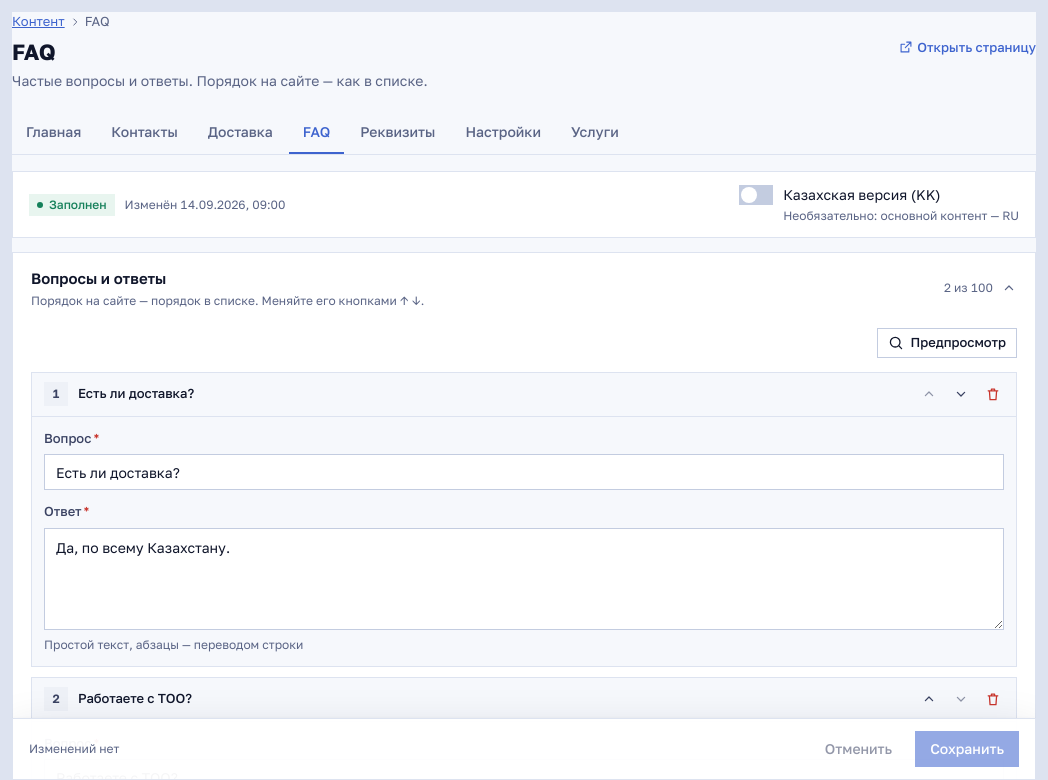
it: несохранённые изменения › закрытие вкладки при изменениях предупреждает, после сохранения — нет
The width and height of the screenshot is (1048, 780).
Expected: the button "Сохранить" is shown, [915,731,1019,767]
Type "!" into the field labelled "Вопрос*" at (524, 472), box [44,454,1004,490]
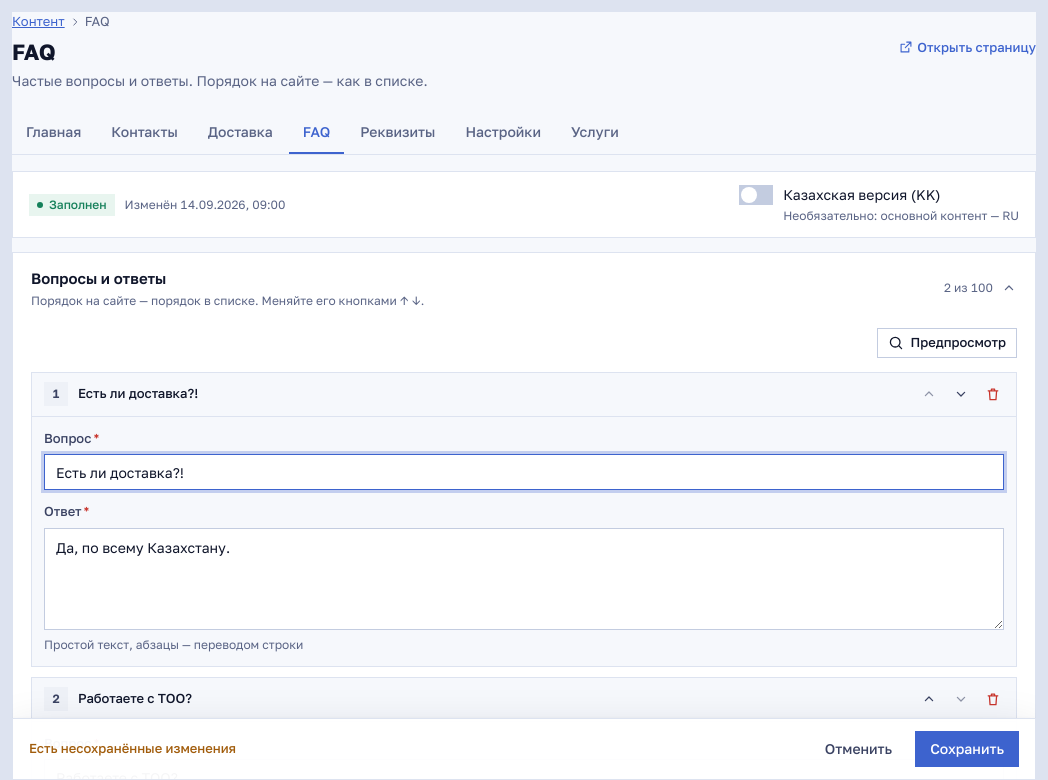
Click the button "Сохранить" at (967, 749), box [915,731,1019,767]
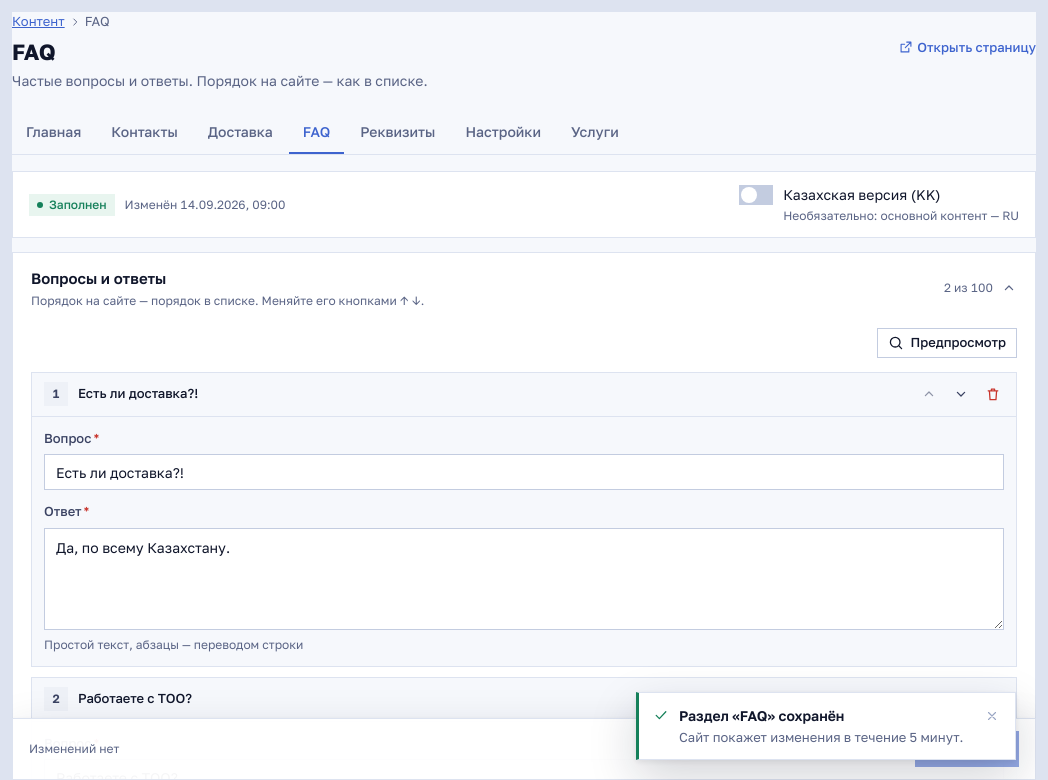
Result: the text "Раздел «FAQ» сохранён" is shown at [679,706,844,724]
Result: the text "Изменений нет" is shown at [29,740,119,758]
